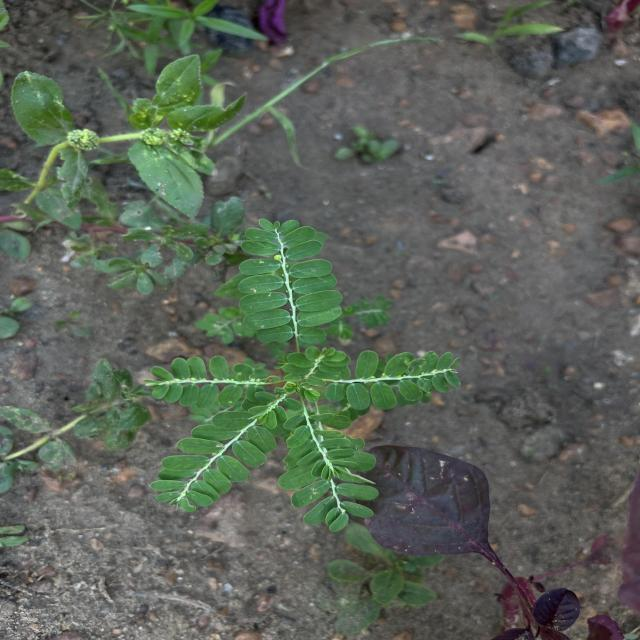Phyllanthus niruri: (236, 214, 342, 350), (146, 411, 278, 512), (287, 404, 380, 532), (330, 347, 466, 412), (139, 352, 268, 412)
